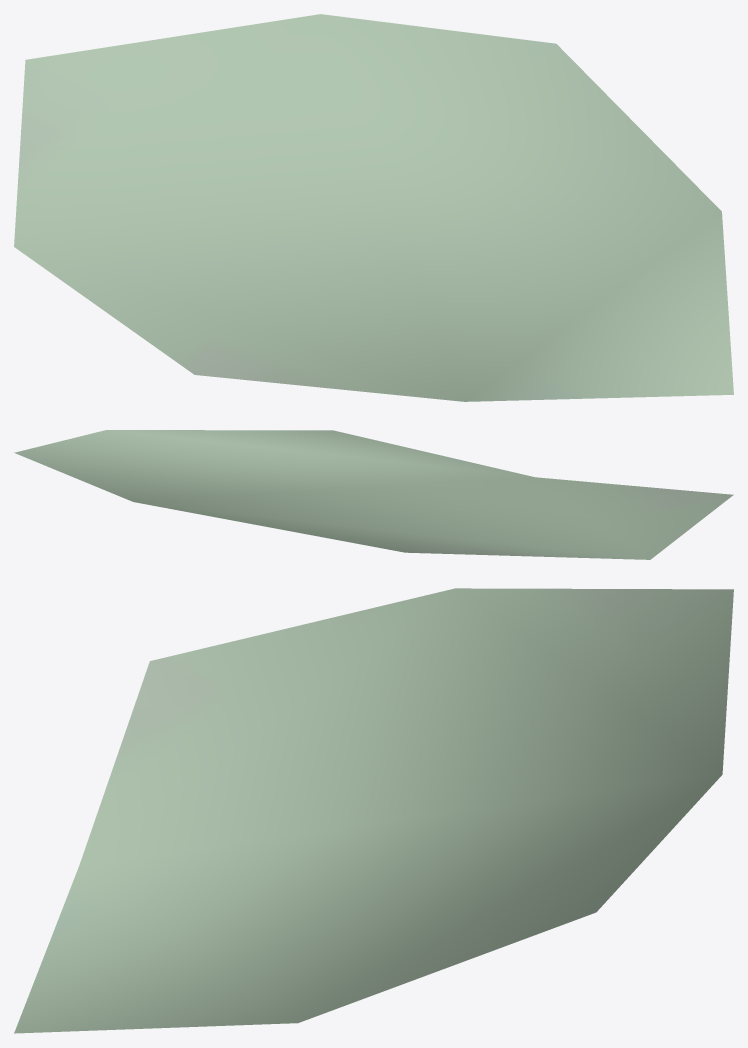
The model's file is TROLLHOLE02_HOLECAP196.fbx.
The picture shows the model from 3 angles, top to bottom: view 1: azimuth 30°, elevation 25°; view 2: azimuth 150°, elevation 25°; view 3: azimuth 270°, elevation 25°; orthographic projection. The views are drawn at different scales.
Parts seen in each view (by area): view 1: TROLLHOLE02_HOLECAP196; view 2: TROLLHOLE02_HOLECAP196; view 3: TROLLHOLE02_HOLECAP196.
Boxes of the visible parts, x1=… form: TROLLHOLE02_HOLECAP196: x1=14, y1=14, x2=733, y2=401; TROLLHOLE02_HOLECAP196: x1=14, y1=430, x2=733, y2=559; TROLLHOLE02_HOLECAP196: x1=14, y1=588, x2=733, y2=1033.
Size of the model in its own units: 13178 by 3922 by 11301.
1 material, 1 textured.
